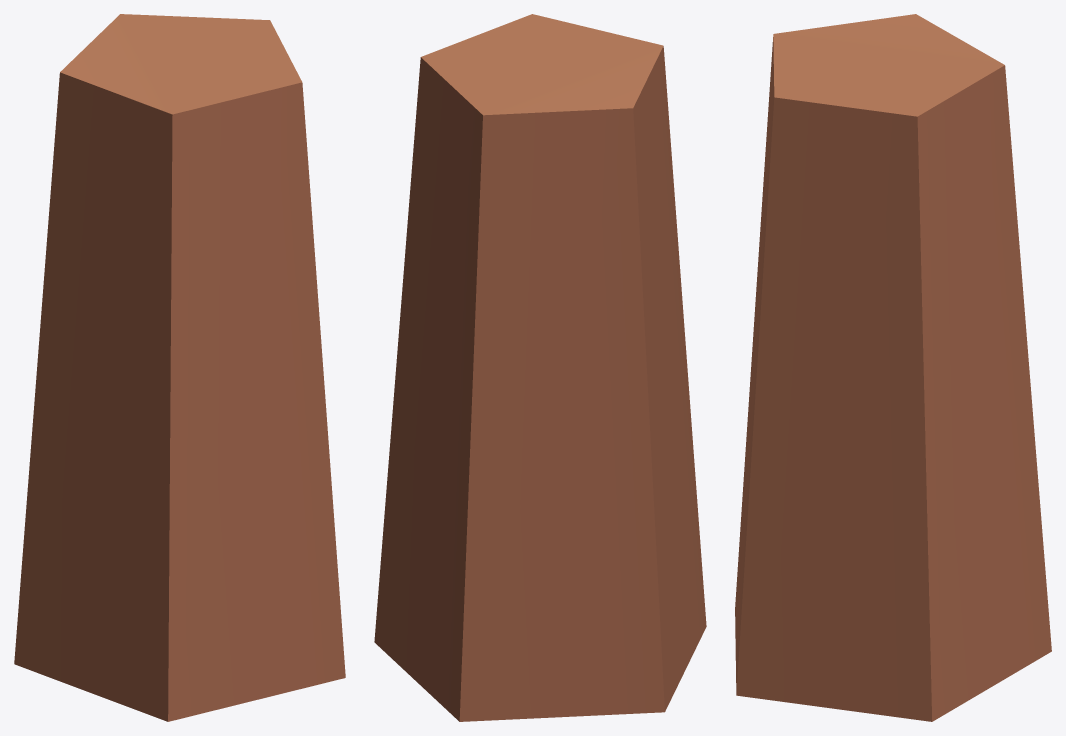
The model's file is tree_single_A_cut.glb.
3 views of the same model, side by side, from view 1: azimuth 30°, elevation 25°; view 2: azimuth 150°, elevation 25°; view 3: azimuth 270°, elevation 25° (orthographic).
Parts seen in each view (by area): view 1: tree_single_A_cut; view 2: tree_single_A_cut; view 3: tree_single_A_cut.
Part boxes in pixels (x1=…): tree_single_A_cut: x1=14, y1=14, x2=345, y2=721; tree_single_A_cut: x1=374, y1=14, x2=706, y2=721; tree_single_A_cut: x1=735, y1=14, x2=1051, y2=721.
Size of the model in its own units: 0.1697 by 0.3302 by 0.1617.
1 material, 1 textured.
